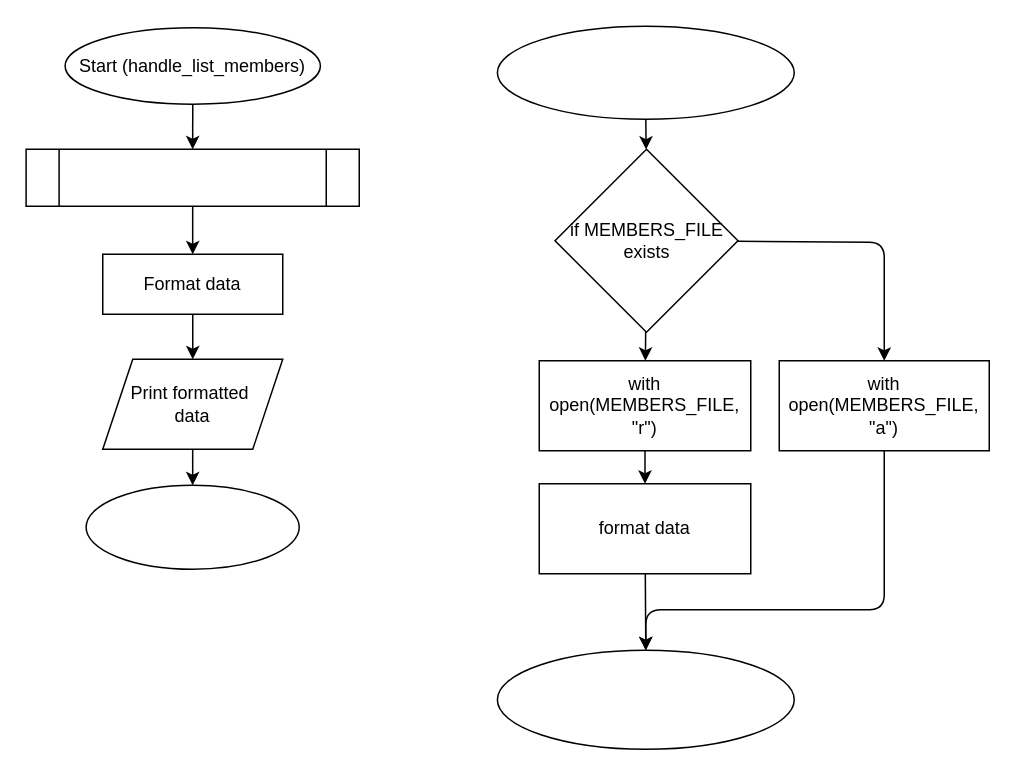
Image size: 1017x776. Some labels were removed from this diagram. The shapes that lost their labels are listed below. From the top down, each one's centre as x and y in pixels, then its label:
pixel 645 72: Start (members_model.load_members)
pixel 192 177: members_model.load_members
pixel 192 526: End ( handle_list_members )
pixel 645 699: End - Return data (members_model.load_members)
